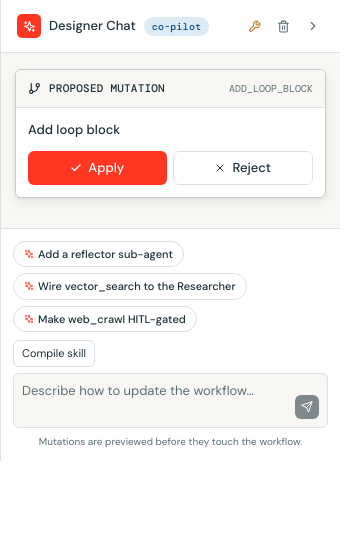
Test case: ChatPanel › shows a no-op notice when apply returns no_op (Fix #3)
Click the button with aria-label "Apply mutation" at [97, 168], box left=28, top=151, right=166, bottom=184
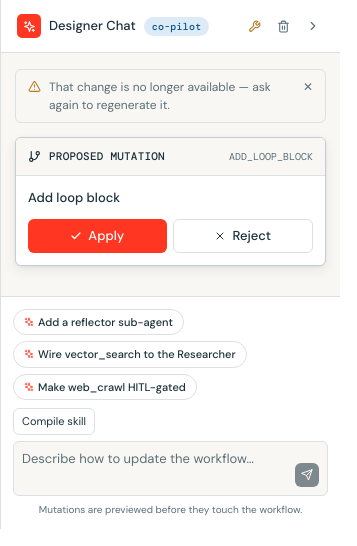
expect the message "That change is no longer available — ask again to regenerate it. ✕" is shown: met, box left=15, top=69, right=326, bottom=123
